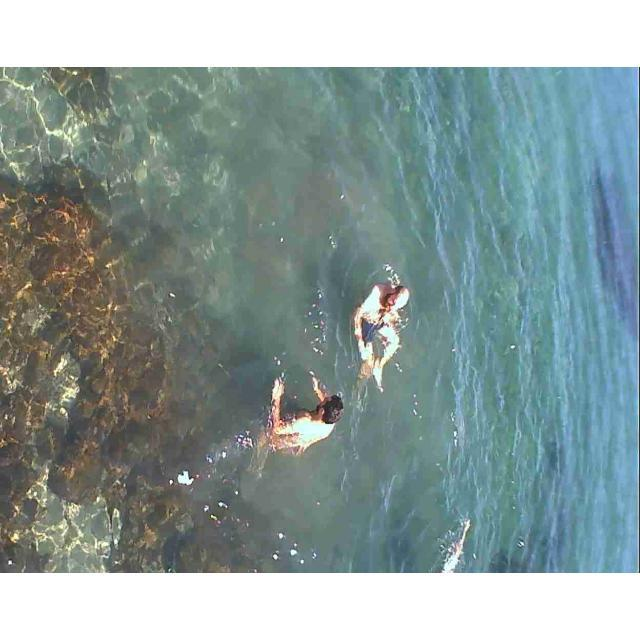human: (254, 367, 341, 465), (353, 271, 417, 399)
